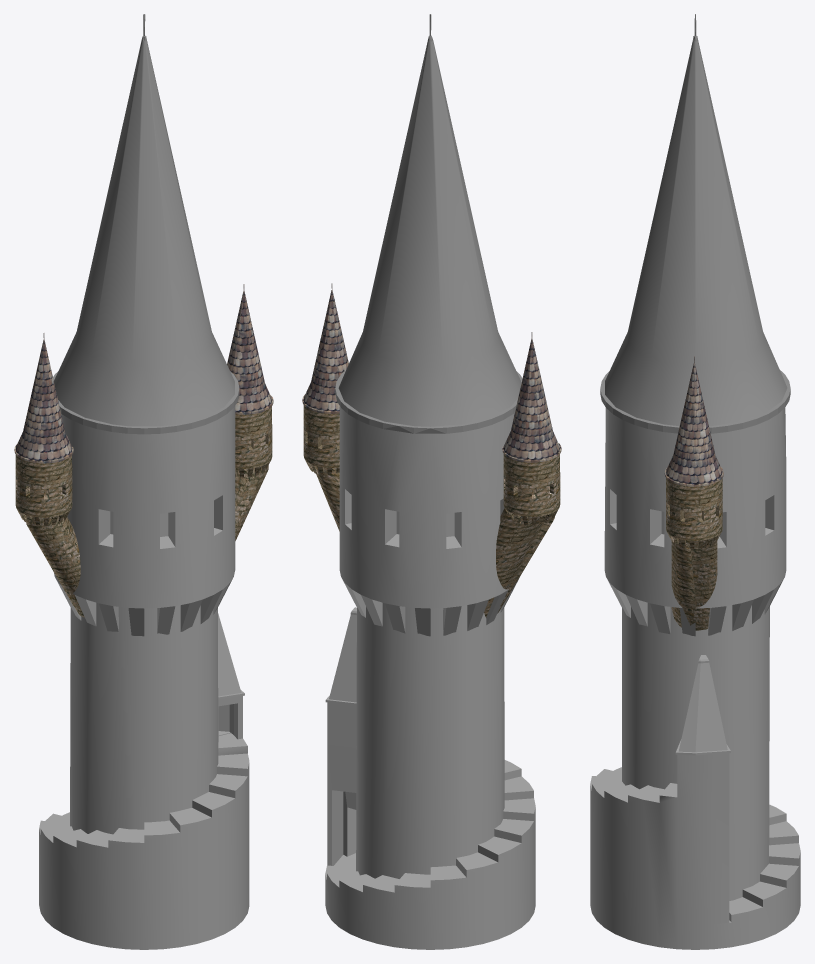
File: tower.FBX
3 renders of one model, left to right at view 1: azimuth 30°, elevation 25°; view 2: azimuth 150°, elevation 25°; view 3: azimuth 270°, elevation 25°, orthographic.
Visible parts, largest first — view 1: Spiral Tower Front Right, Object01, Object06, Object03, attach 2, Object04, attach 1; view 2: Spiral Tower Front Right, Object01, Object06, Object03, attach 2, Object04, attach 1; view 3: Spiral Tower Front Right, Object03, Object04, attach 1.
Part boxes in pixels (x1,y1,x2,y2): Spiral Tower Front Right: [39, 14, 249, 949]; Object01: [14, 333, 73, 463]; Object06: [15, 455, 72, 526]; Object03: [227, 284, 273, 414]; attach 2: [26, 516, 84, 617]; Object04: [235, 406, 272, 477]; attach 1: [235, 465, 268, 540]; Spiral Tower Front Right: [325, 14, 535, 949]; Object01: [502, 332, 561, 462]; Object06: [503, 454, 560, 525]; Object03: [302, 283, 348, 413]; attach 2: [484, 508, 554, 617]; Object04: [303, 405, 339, 475]; attach 1: [316, 466, 339, 531]; Spiral Tower Front Right: [590, 14, 800, 949]; Object03: [664, 356, 723, 486]; Object04: [666, 478, 722, 549]; attach 1: [671, 539, 717, 630].
Bounding box in the file's own units: 352 × 1193 × 255.
